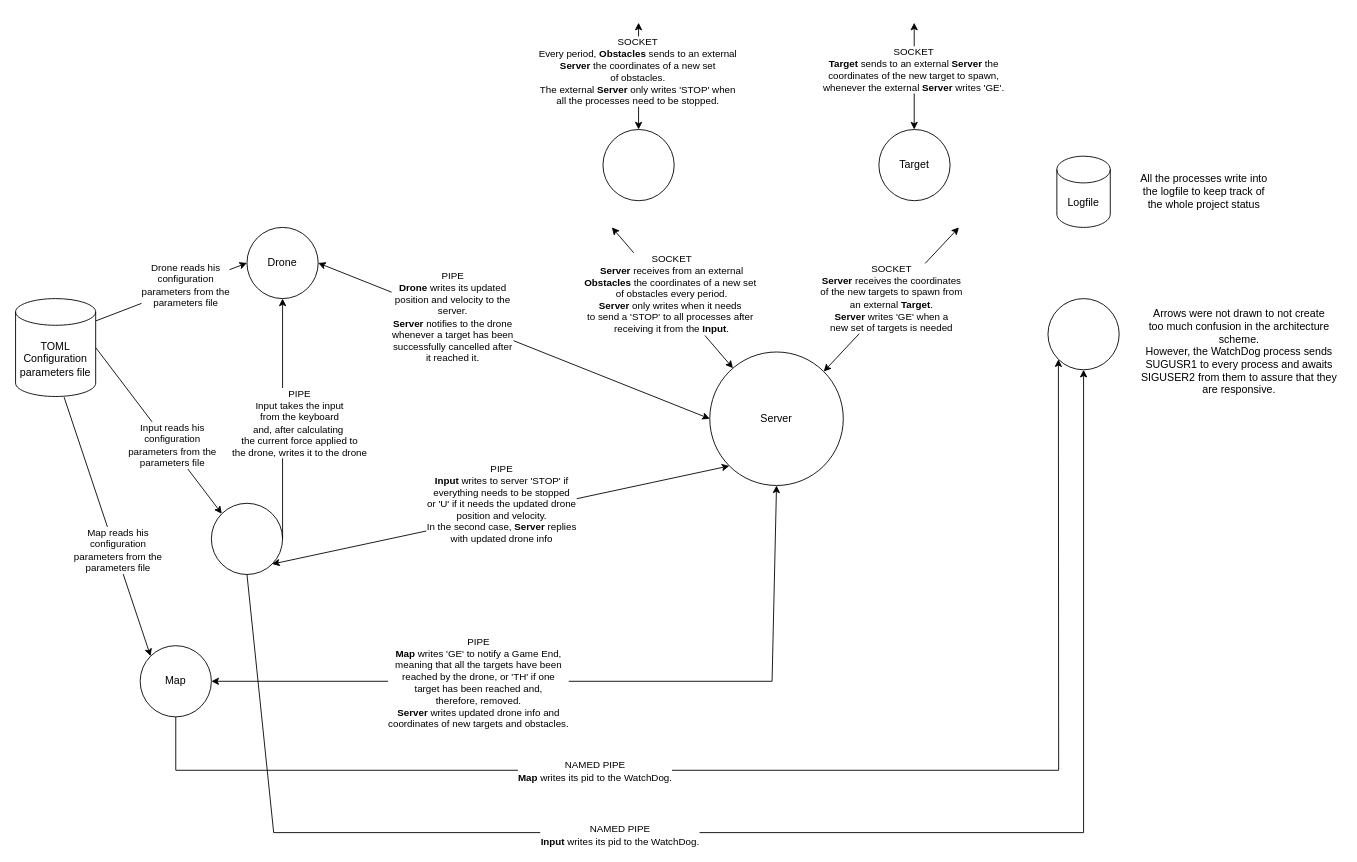
This 1357x862 diagram has some shape labels left out. The centre of each missing label's shape, as x and y in pixels:
Input: the point at 246,538
Obstacles: the point at 638,165
WatchDog: the point at 1083,334
